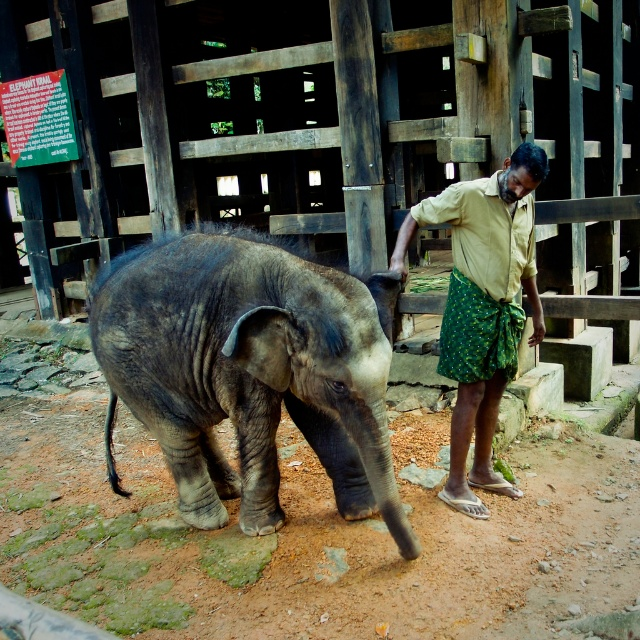Elephant: (84, 227, 422, 560)
